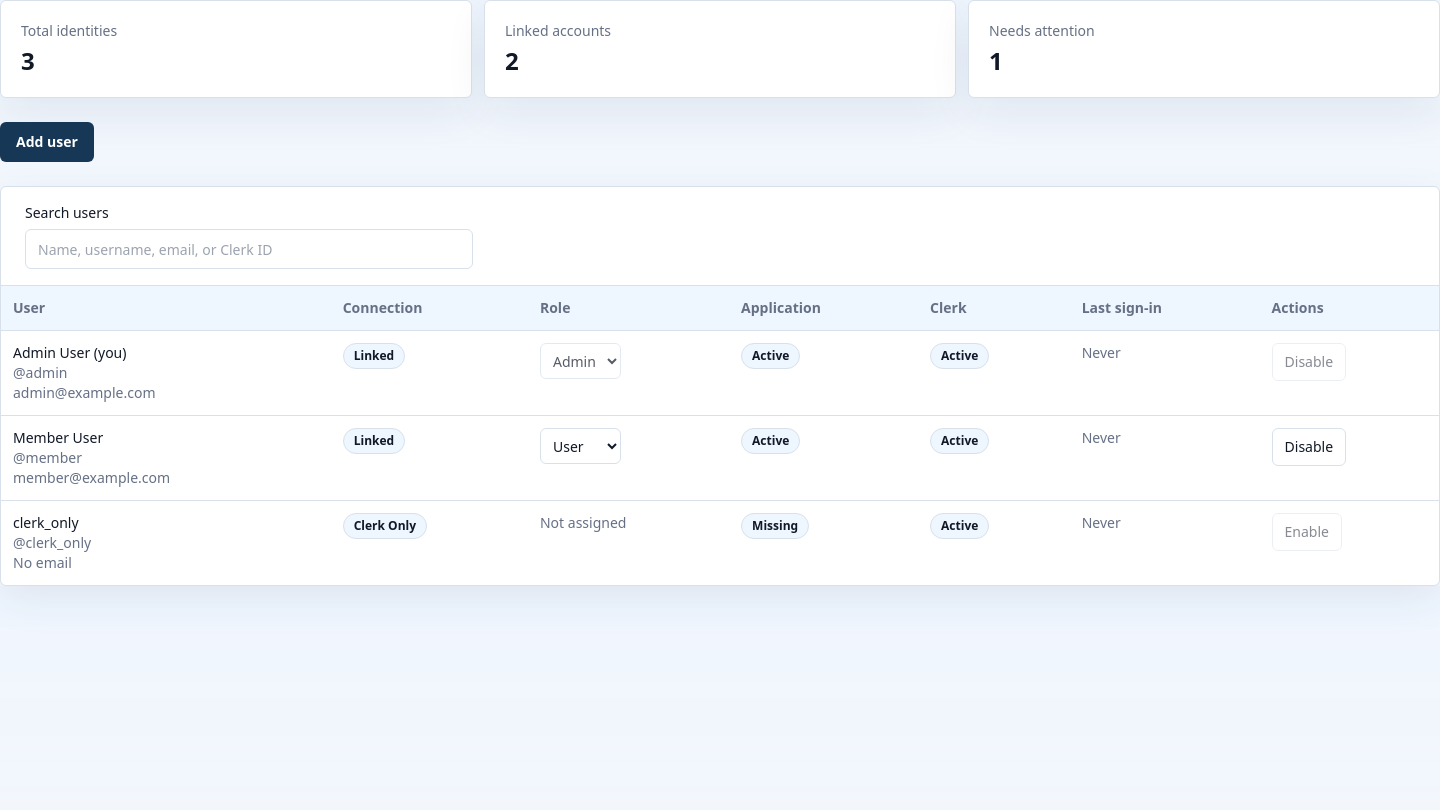
admin user directory › filters identities by username
The width and height of the screenshot is (1440, 810).
Type "clerk_only" into the search field labelled "Search users".
click(249, 249); type("clerk_only")  # box left=25, top=229, right=473, bottom=269
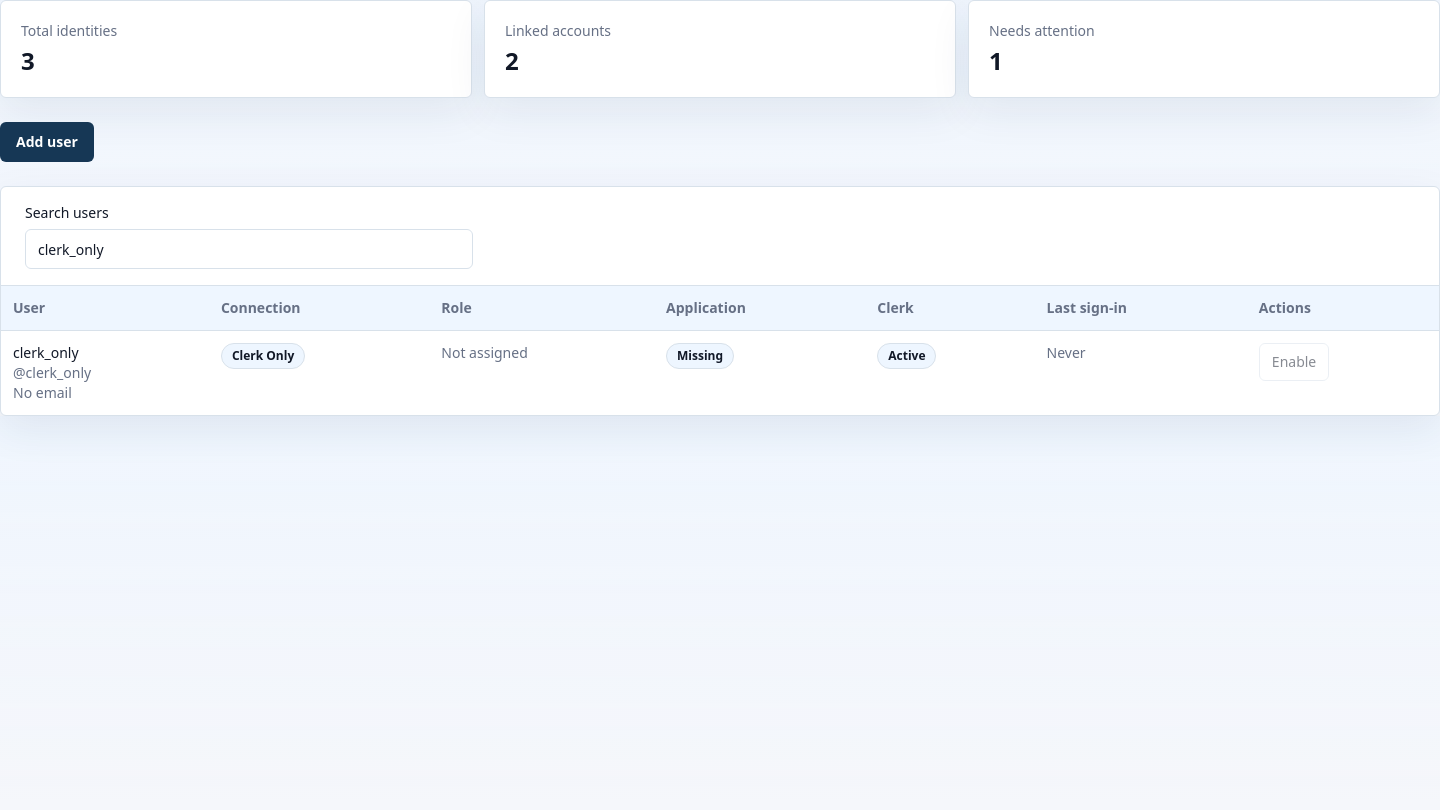
Expected: the text "@clerk_only" is shown, left=13, top=363, right=91, bottom=382
Expected: the text "Admin User (you)" is gone
